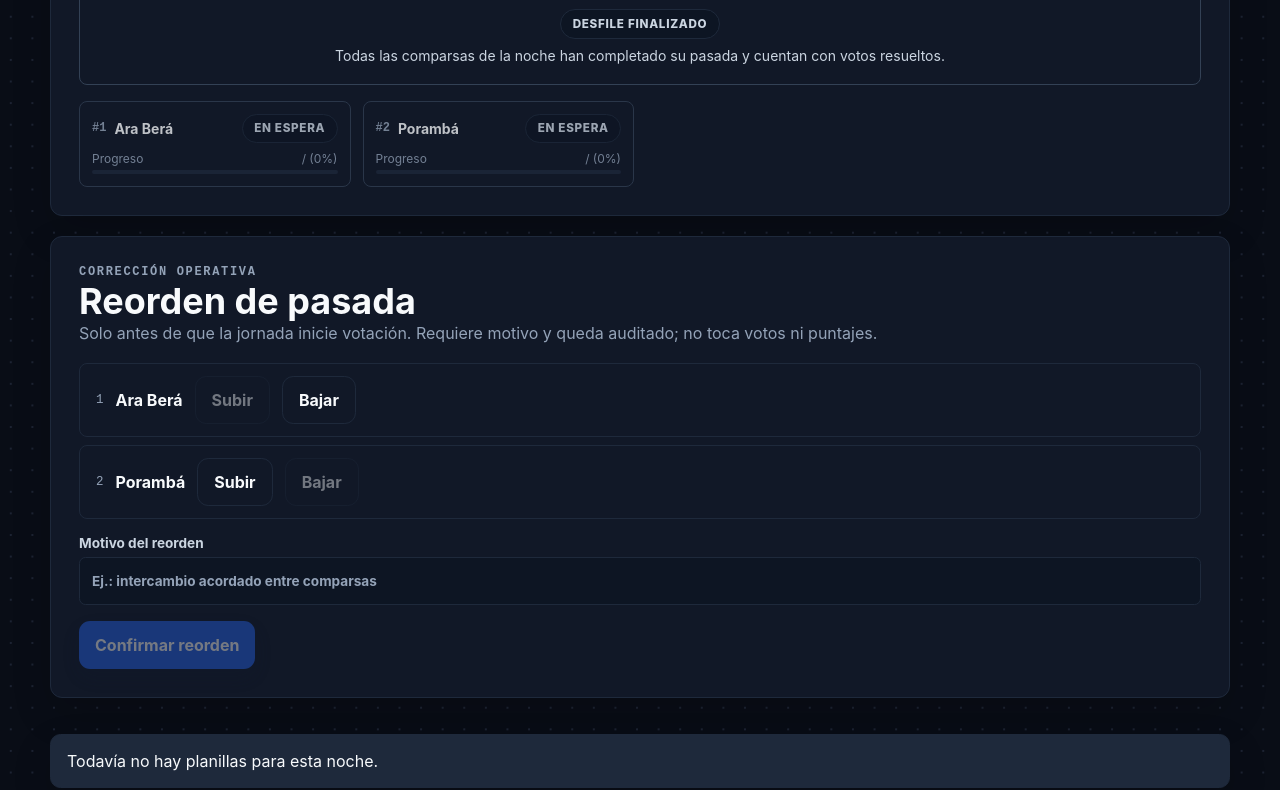
Test case: AdminVotingPage › reordena la pasada con motivo y muestra mensaje ante jornada congelada
(page scrolled)
Expected: the heading "Reorden de pasada" is shown, x1=79 y1=279 x2=416 y2=323
Click the button with aria-label "Bajar Ara Berá" at point(319, 400), box x1=282 y1=376 x2=356 y2=424
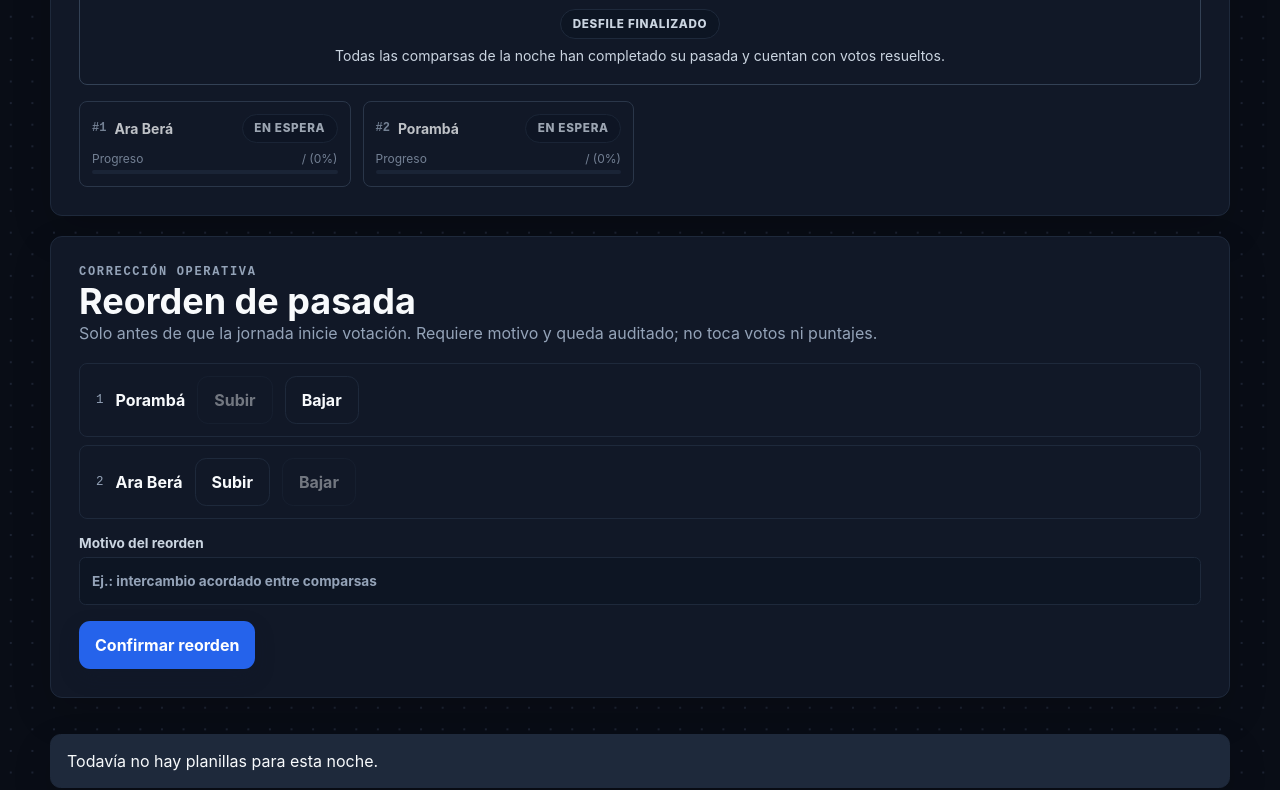
Type "Intercambio acordado" into the field labelled "Motivo del reorden" at point(640, 581), box x1=79 y1=557 x2=1201 y2=605
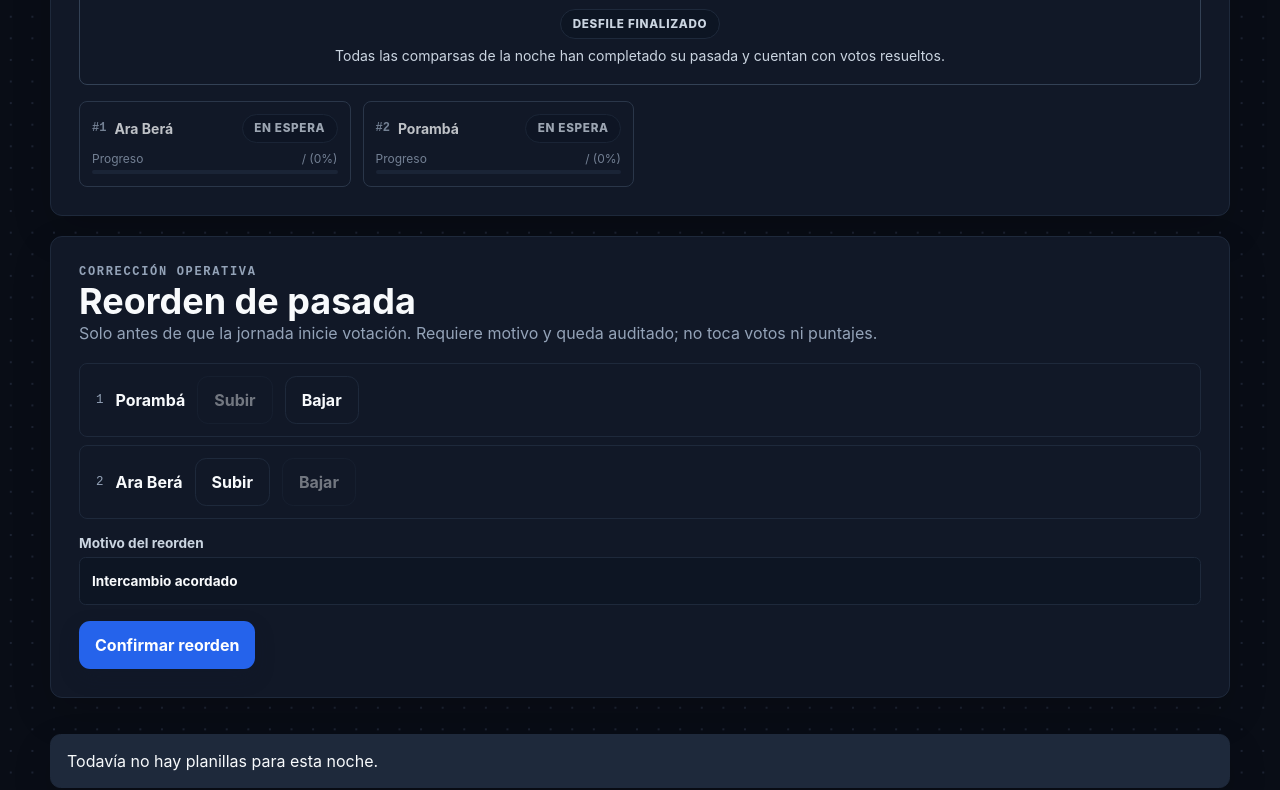
Click the button "Confirmar reorden" at point(167, 645), box x1=79 y1=621 x2=256 y2=669
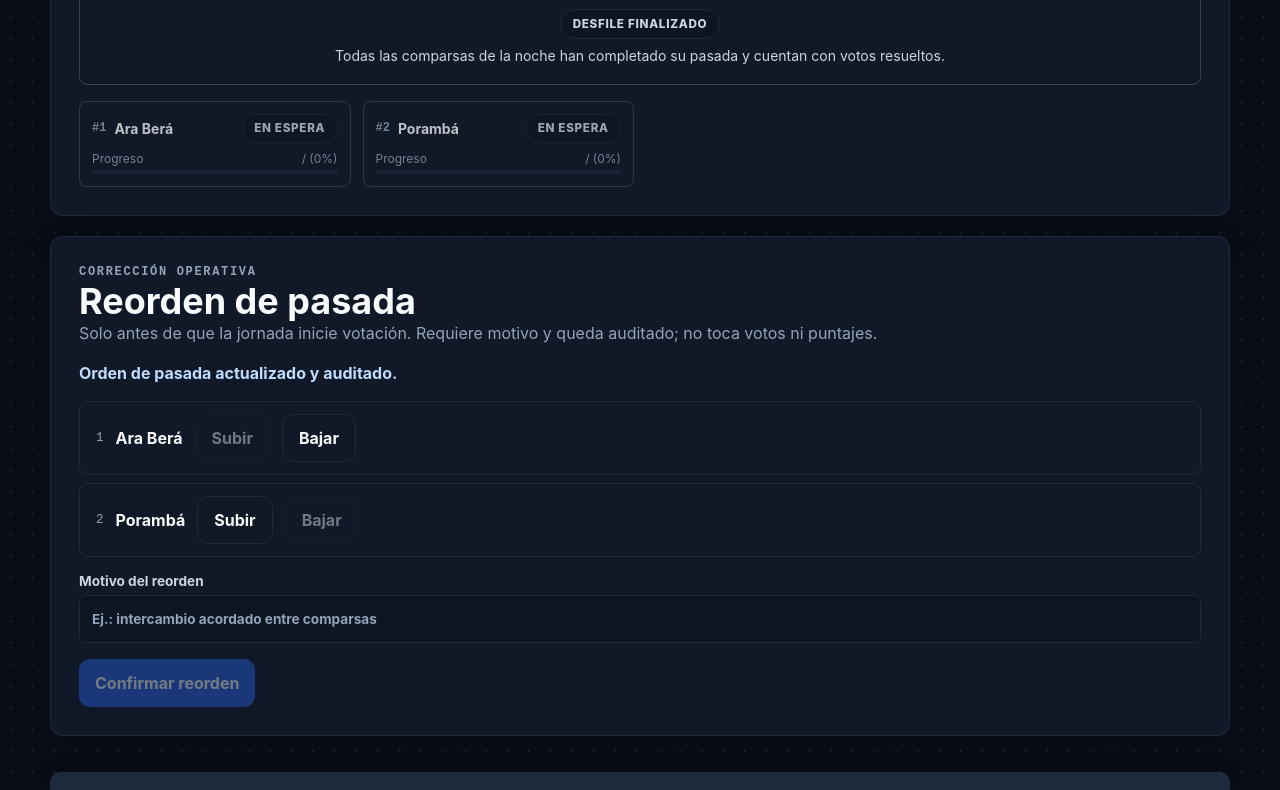
Now the text "Orden de pasada actualizado y auditado." is shown, box x1=79 y1=363 x2=397 y2=383
